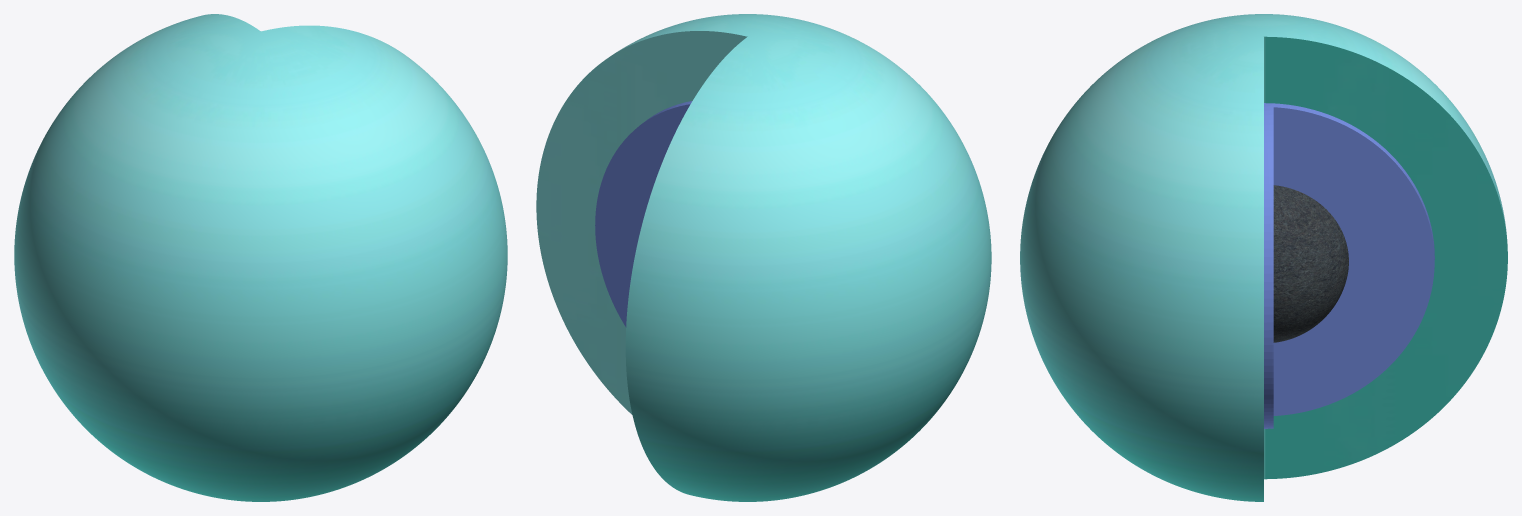
The model's file is uranus-improved.glb.
3 renders of one model, left to right at view 1: azimuth 30°, elevation 25°; view 2: azimuth 150°, elevation 25°; view 3: azimuth 270°, elevation 25°, orthographic.
Visible parts, largest first — view 1: Atmosphere; view 2: Atmosphere, Mantle; view 3: Atmosphere, Mantle, Core.
Part boxes in pixels (box(x1,y1,x2,y2)): Atmosphere: box(14, 14, 507, 501); Atmosphere: box(536, 14, 991, 501); Mantle: box(595, 101, 692, 327); Atmosphere: box(1020, 14, 1507, 501); Mantle: box(1264, 103, 1434, 428); Core: box(1273, 185, 1348, 342).
Bounding box in the file's own units: 2 × 2 × 2.
Materials: 3 (2 with a texture image).
